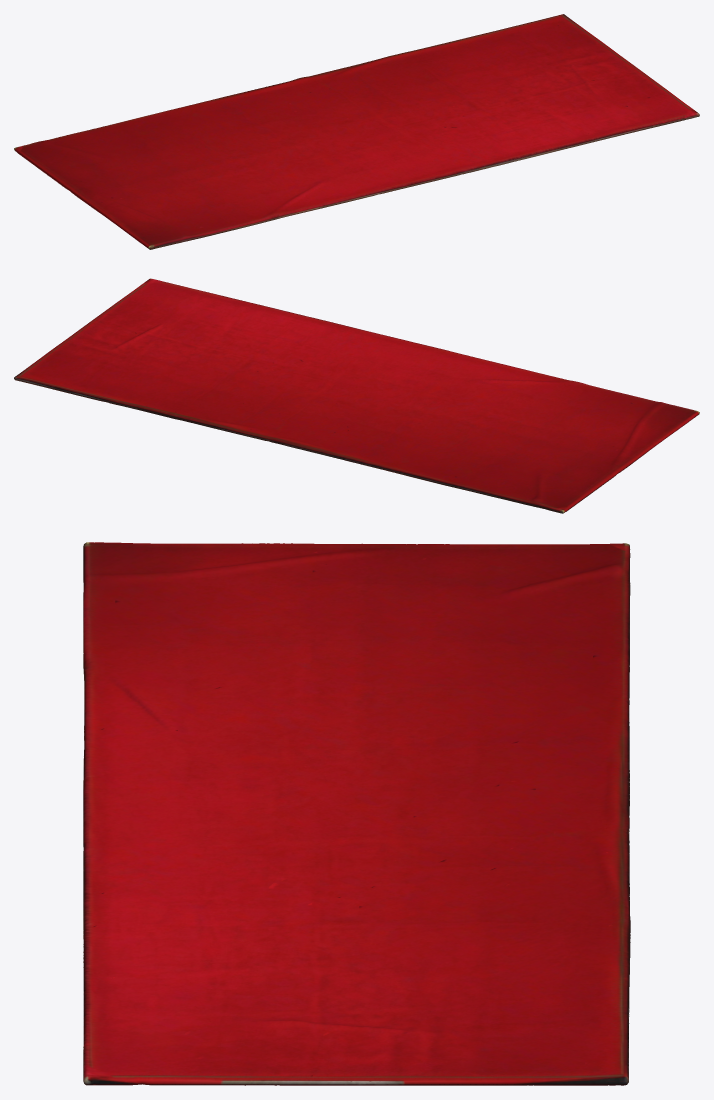
The model's file is Meshy_AI_creami_un_tappeto_ros_0210083747_texture.glb.
3 views of the same model, one above another, from view 1: azimuth 30°, elevation 25°; view 2: azimuth 150°, elevation 25°; view 3: azimuth 270°, elevation 25° (orthographic). The views are drawn at different scales.
Bounding box in the file's own units: 2.01 × 0.0216 × 0.8634.
1 material, 1 textured.
